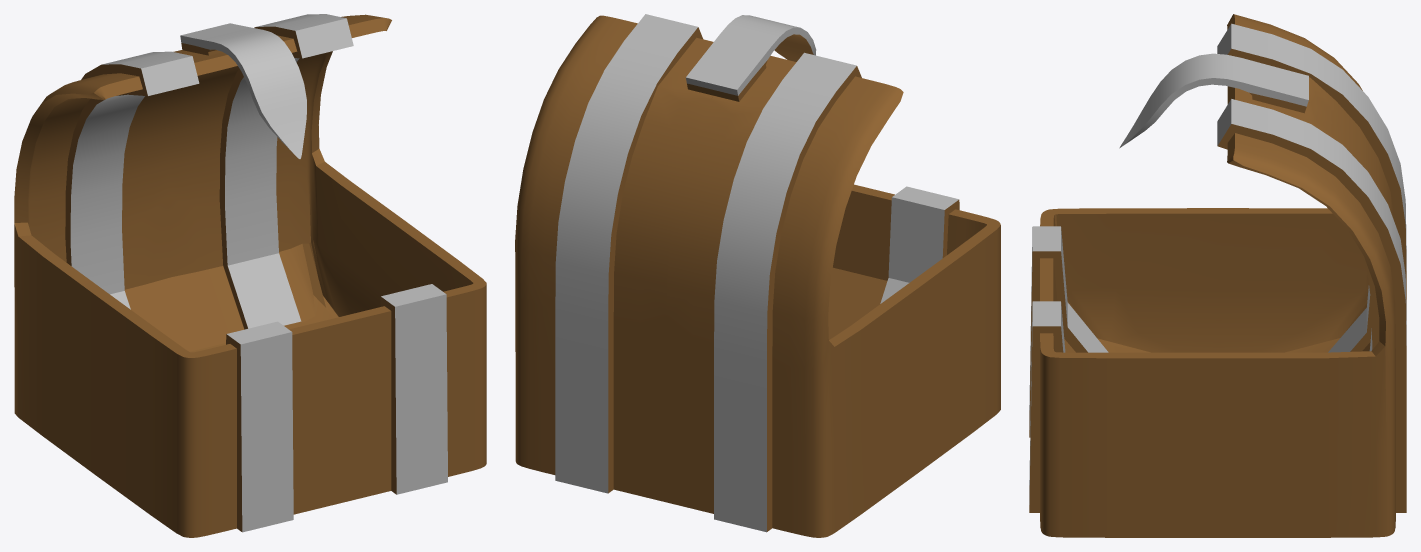
File: chest 1.fbx
The picture shows the model from 3 angles, left to right: view 1: azimuth 30°, elevation 25°; view 2: azimuth 150°, elevation 25°; view 3: azimuth 270°, elevation 25°; orthographic projection. The views are drawn at different scales.
Visible parts, largest first — view 1: Cube; view 2: Cube; view 3: Cube.
Part boxes in pixels (x1,y1,x2,y2): Cube: [14, 14, 486, 537]; Cube: [515, 14, 1000, 537]; Cube: [1029, 14, 1406, 537].
Size of the model in its own units: 99.94 by 123 by 106.
